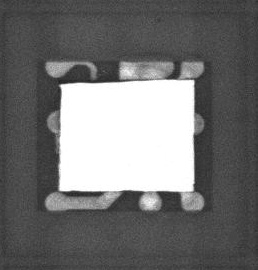DIE_BROKEN: (59, 79, 155, 86)
